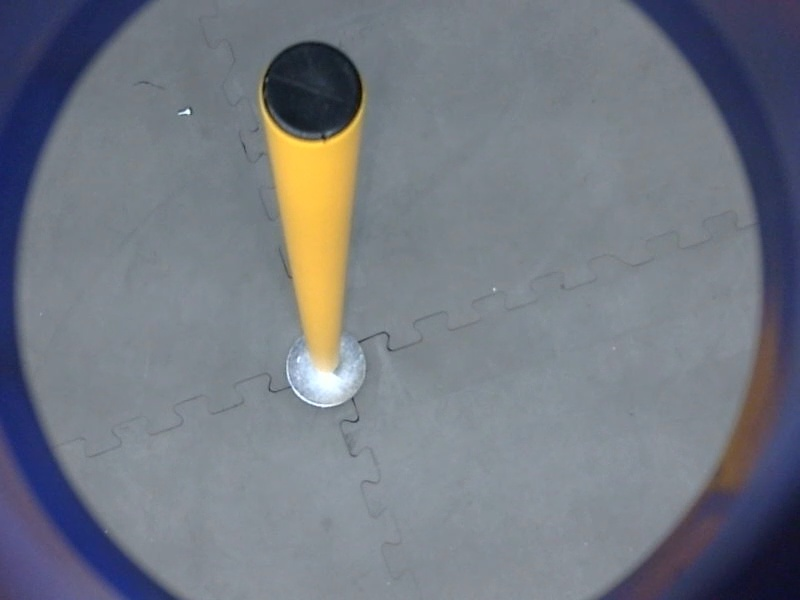tip: (252, 37, 370, 147)
